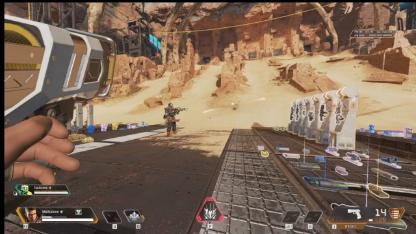Target: (166, 102, 178, 136)
